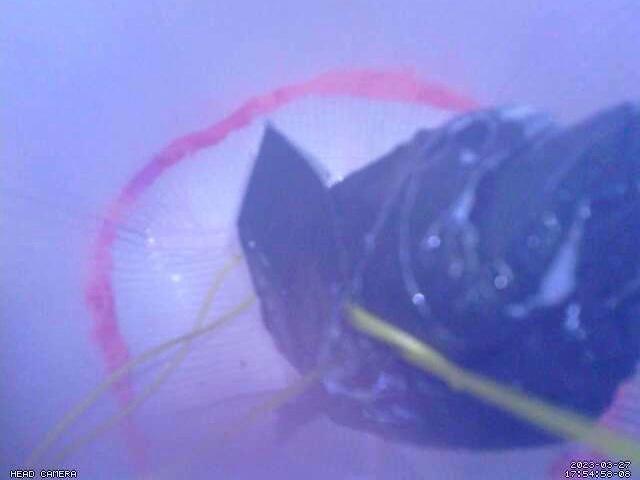head: (85, 64, 480, 480)
